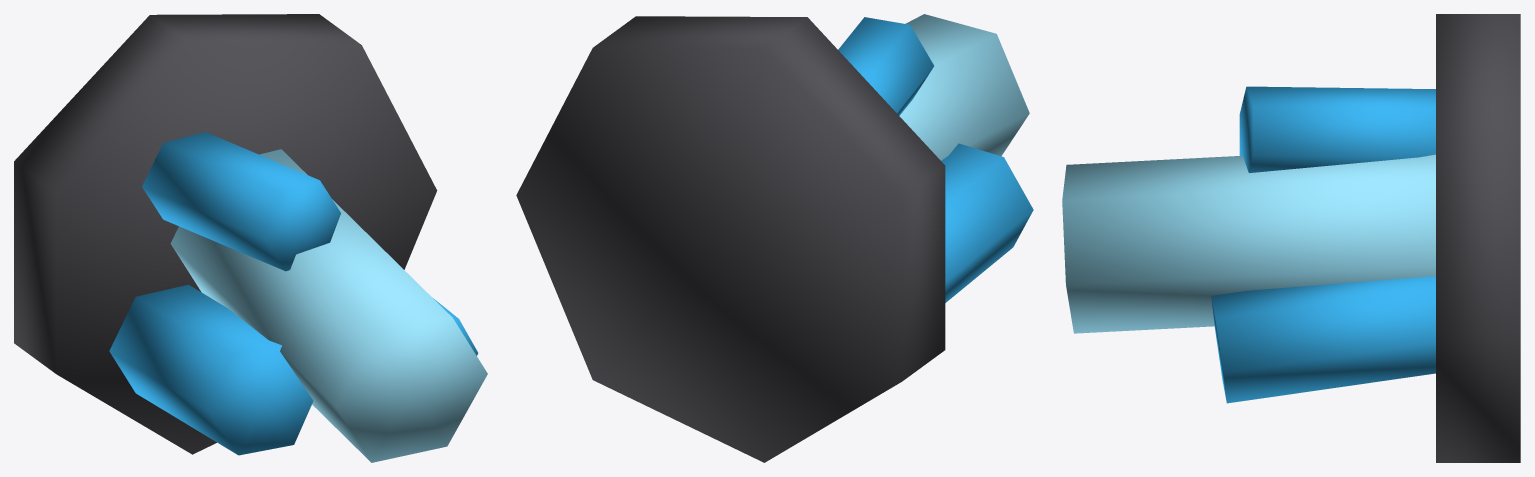
File: ruins_crystal_cluster.obj
3 views of the same model, side by side, from view 1: azimuth 30°, elevation 25°; view 2: azimuth 150°, elevation 25°; view 3: azimuth 270°, elevation 25° (orthographic).
Visible parts, largest first — view 1: ruins_crystal_cluster; view 2: ruins_crystal_cluster; view 3: ruins_crystal_cluster.
Boxes of the visible parts, left/top/right/bottom form: ruins_crystal_cluster: left=14, top=14, right=487, bottom=462; ruins_crystal_cluster: left=516, top=14, right=1033, bottom=462; ruins_crystal_cluster: left=1062, top=14, right=1520, bottom=462.
Size of the model in its own units: 0.7224 by 0.7409 by 0.7567.
